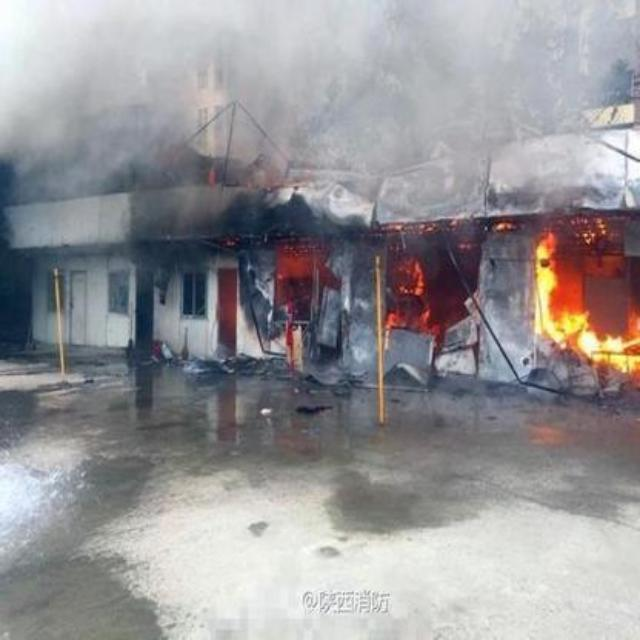Fire: (532, 222, 640, 386), (383, 222, 467, 350), (272, 238, 322, 328), (218, 268, 240, 348)
Smoke: (18, 22, 618, 218)
